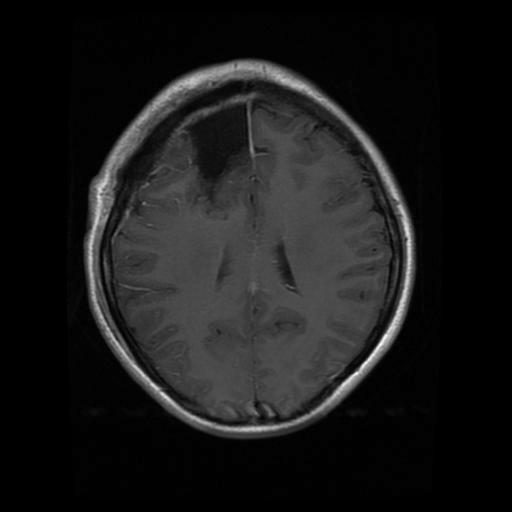Tumour-Glioma: (190, 113, 261, 193)
